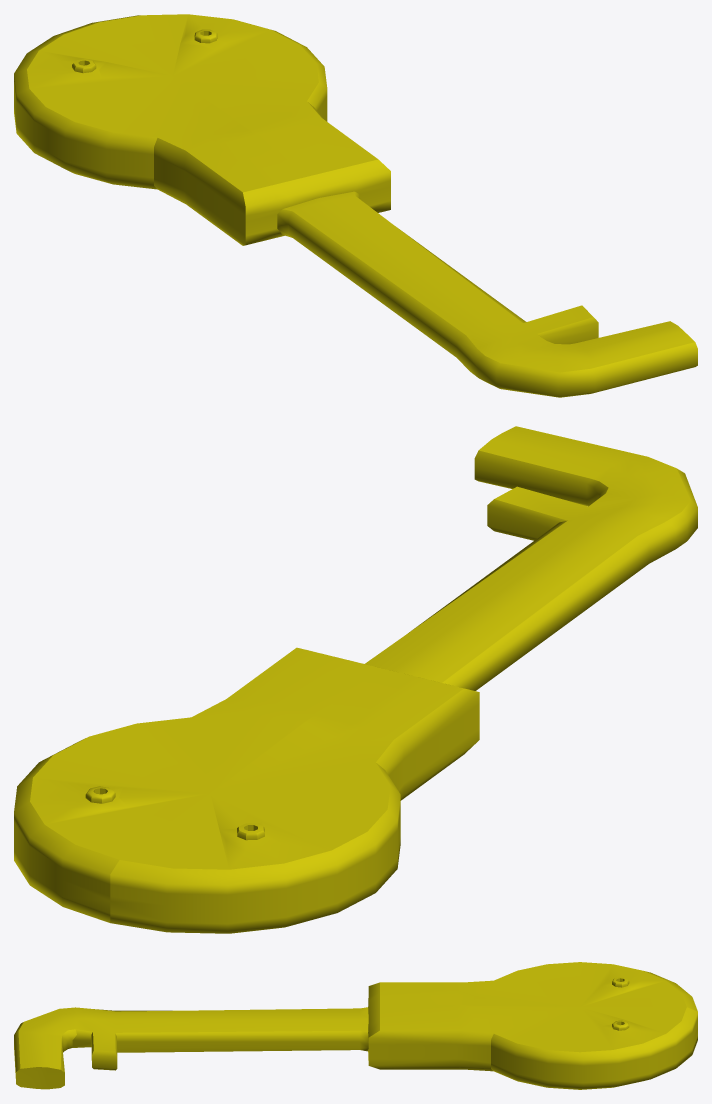
File: SkeletonKey.fbx
3 renders of one model, top to bottom at view 1: azimuth 30°, elevation 25°; view 2: azimuth 150°, elevation 25°; view 3: azimuth 270°, elevation 25°, orthographic. The views are drawn at different scales.
Parts seen in each view (by area): view 1: polySurface9; view 2: polySurface9; view 3: polySurface9.
Boxes of the visible parts, bbox=[...] form: polySurface9: bbox=[14, 14, 697, 397]; polySurface9: bbox=[14, 426, 697, 933]; polySurface9: bbox=[14, 962, 697, 1089].
Bounding box in the file's own units: 0.1468 × 0.0337 × 0.4322.
Materials: 1 (1 with a texture image).
